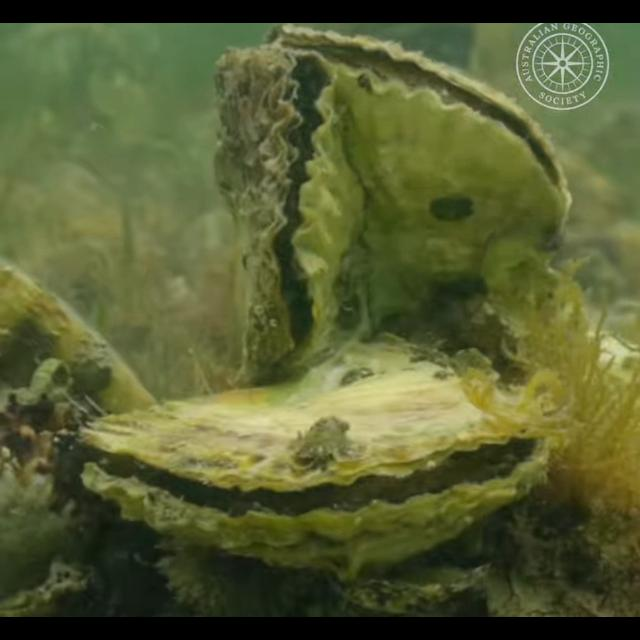Oyster-Closed: (1, 262, 158, 430)
Oyster-Open: (76, 332, 550, 582), (266, 24, 572, 352), (212, 44, 366, 390)
